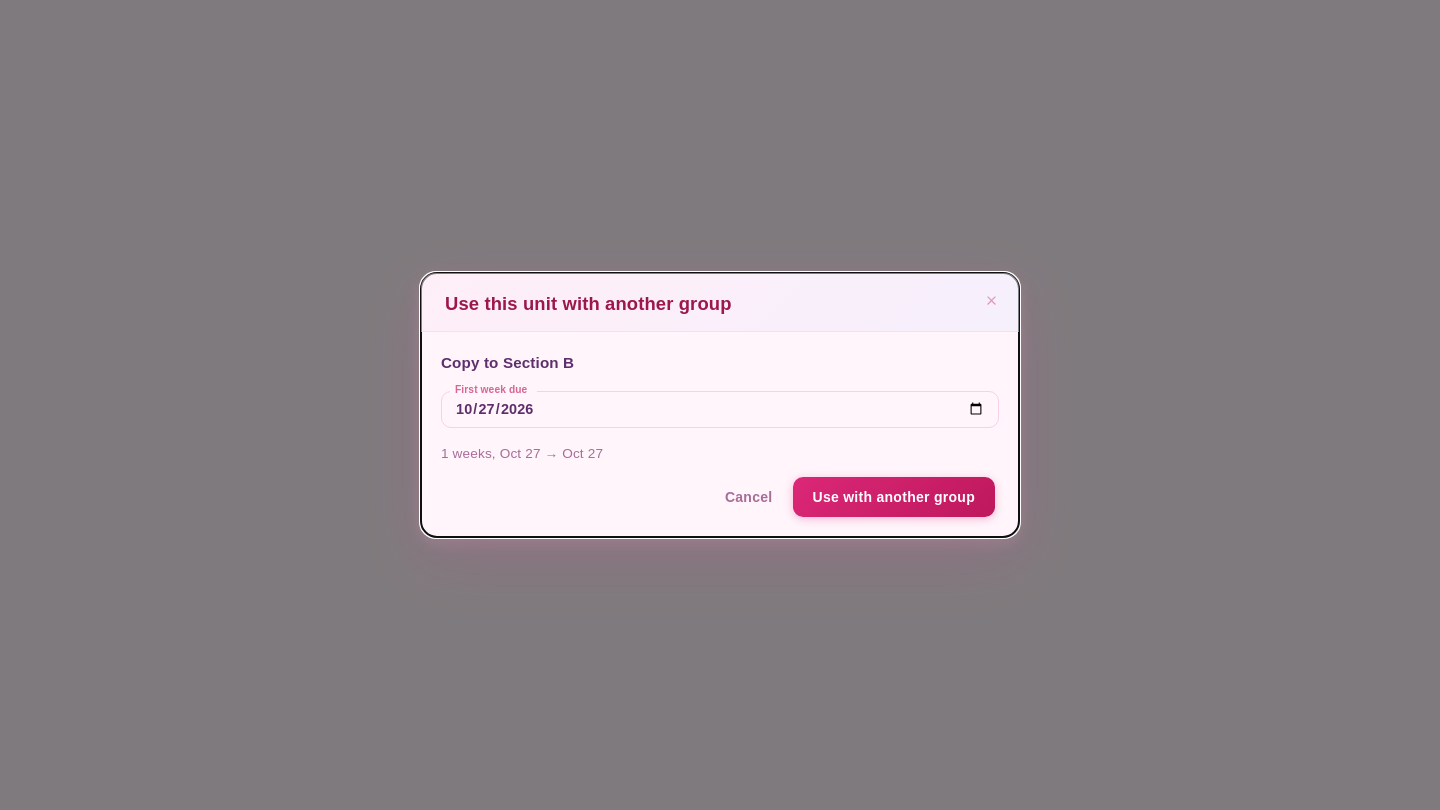
Test: CopyUnitDialog › shows a preview line with the rebased first and last due dates
The width and height of the screenshot is (1440, 810).
Expected: the text "Copy to Section B" is shown, [441,354,574,371]
Step 1. Type "2026-10-13" into the date field labelled "First week due" → (720, 409), box [441,391,999,428]
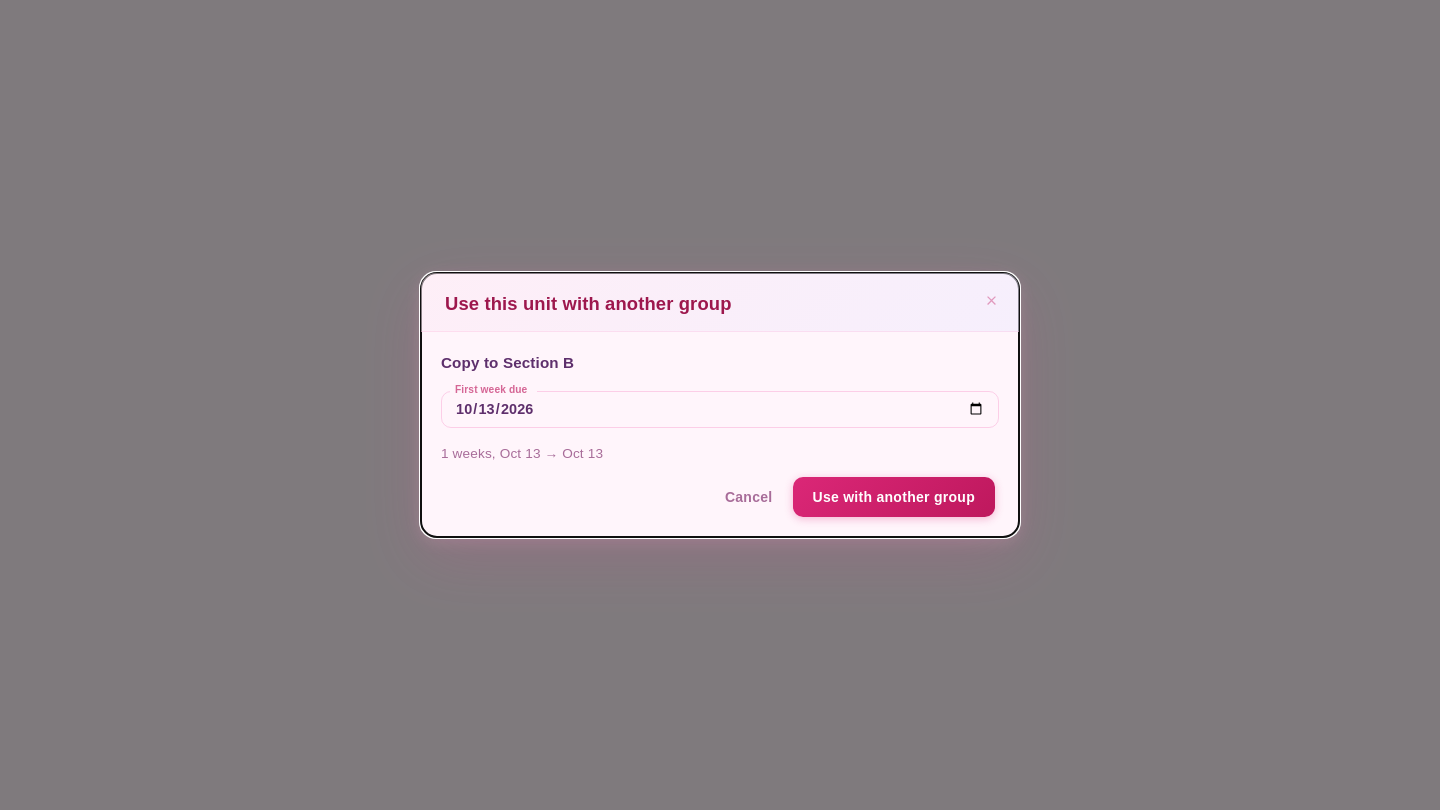
Expected: the text "1 weeks, Oct 13 → Oct 13" is shown, [441,446,603,461]
